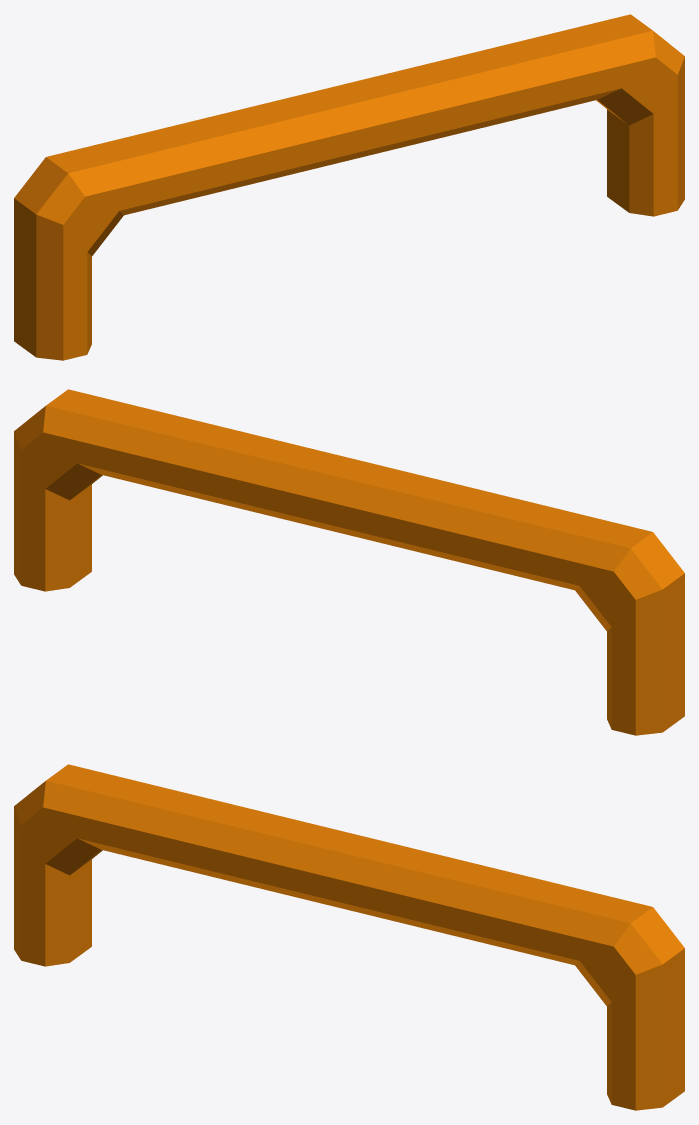
The model's file is Road Barrier 1.fbx.
The picture shows the model from 3 angles, top to bottom: view 1: azimuth 30°, elevation 25°; view 2: azimuth 150°, elevation 25°; view 3: azimuth 330°, elevation 25°; orthographic projection.
Parts seen in each view (by area): view 1: Road Barrier 1; view 2: Road Barrier 1; view 3: Road Barrier 1.
Boxes of the visible parts, bbox=[...] form: Road Barrier 1: bbox=[14, 14, 684, 360]; Road Barrier 1: bbox=[14, 389, 684, 735]; Road Barrier 1: bbox=[14, 764, 684, 1110].
Bounding box in the file's own units: 1.4 × 0.157 × 0.3638.
